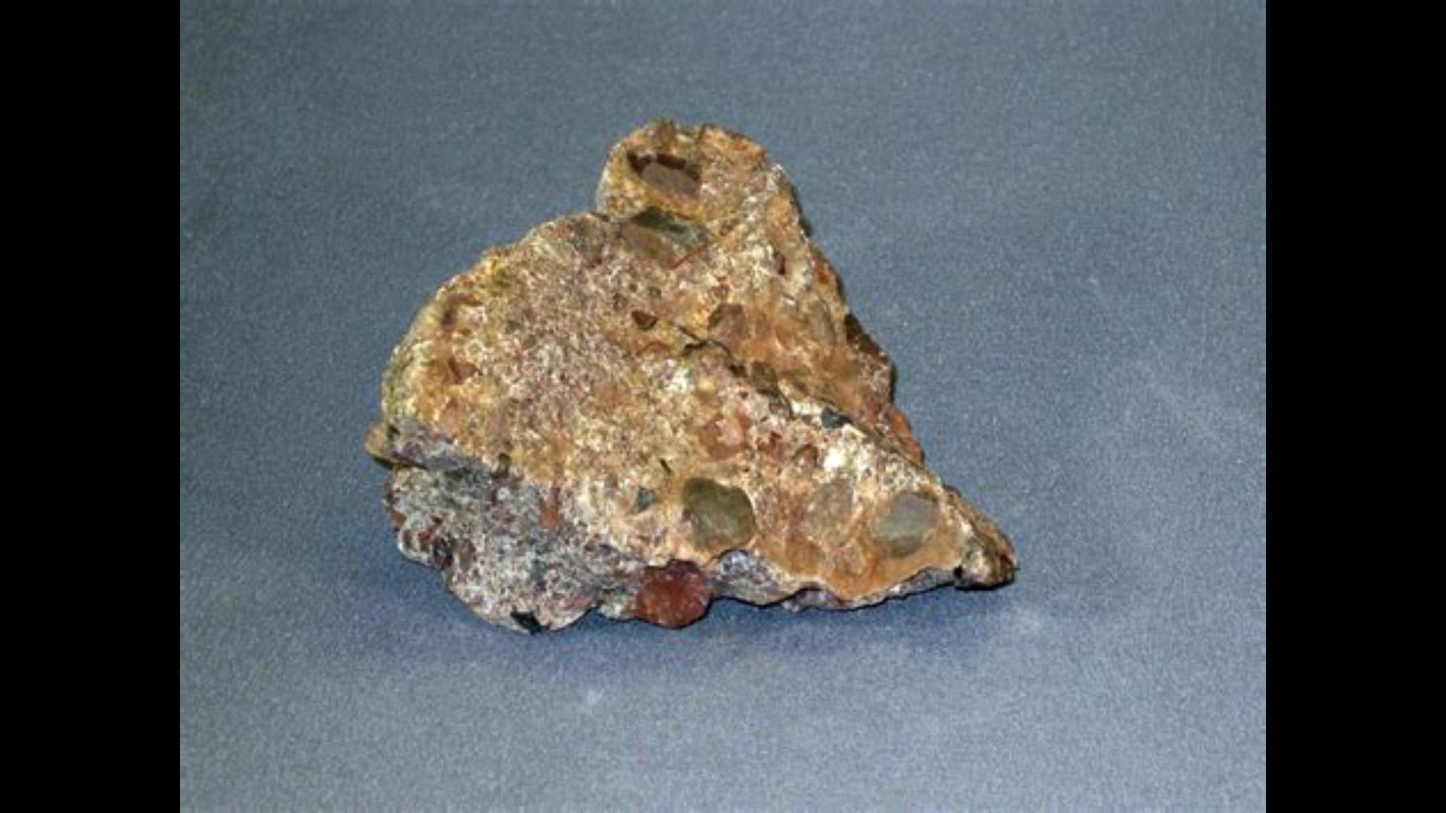rock: (366, 121, 1014, 625)
